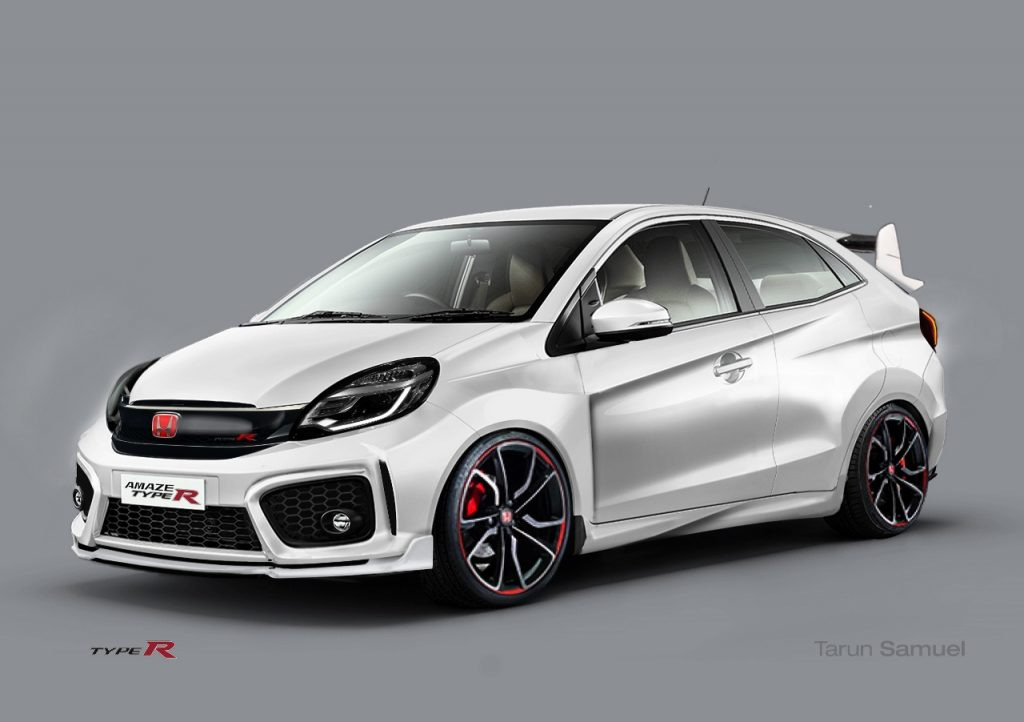sedan: (63, 197, 951, 611)
